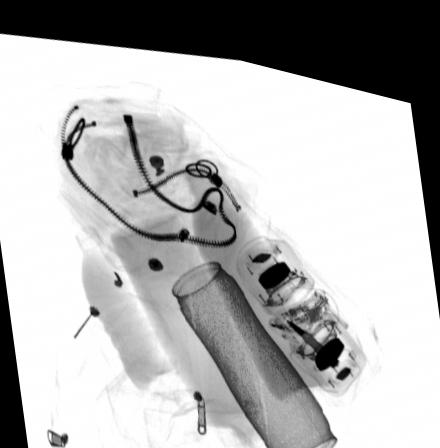Bullet: (285, 303, 340, 350)
